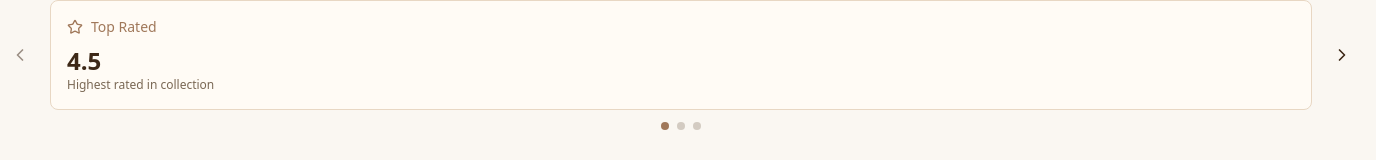
Scenario: StatsCarousel › Touch/Swipe Gestures › navigates to previous slide on swipe right
Click the button named "next" at (1342,55), box [1320,37,1364,73]
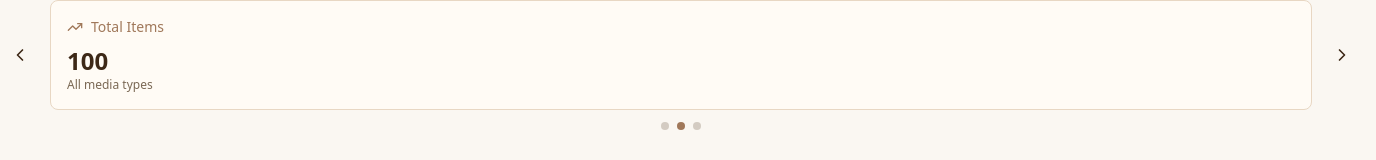
Expected: the element showing "Total Items 100 All media types" is shown, [67,17,164,93]
Press the mouse on the element with id "stats-carousel" at (681,55), box [50,0,1312,110]
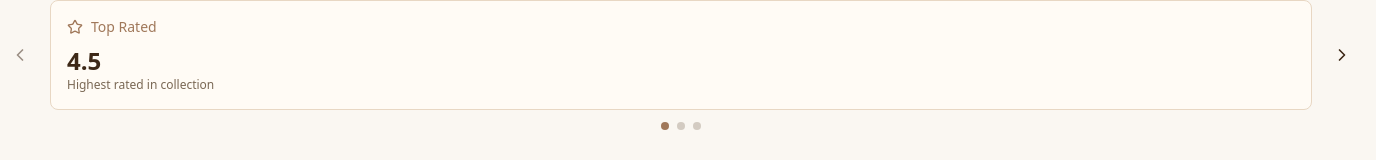
Expected: the element showing "Top Rated 4.5 Highest rated in collection" is shown, [67,17,214,93]
